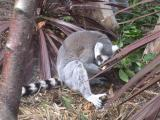cat: (18, 27, 123, 108)
